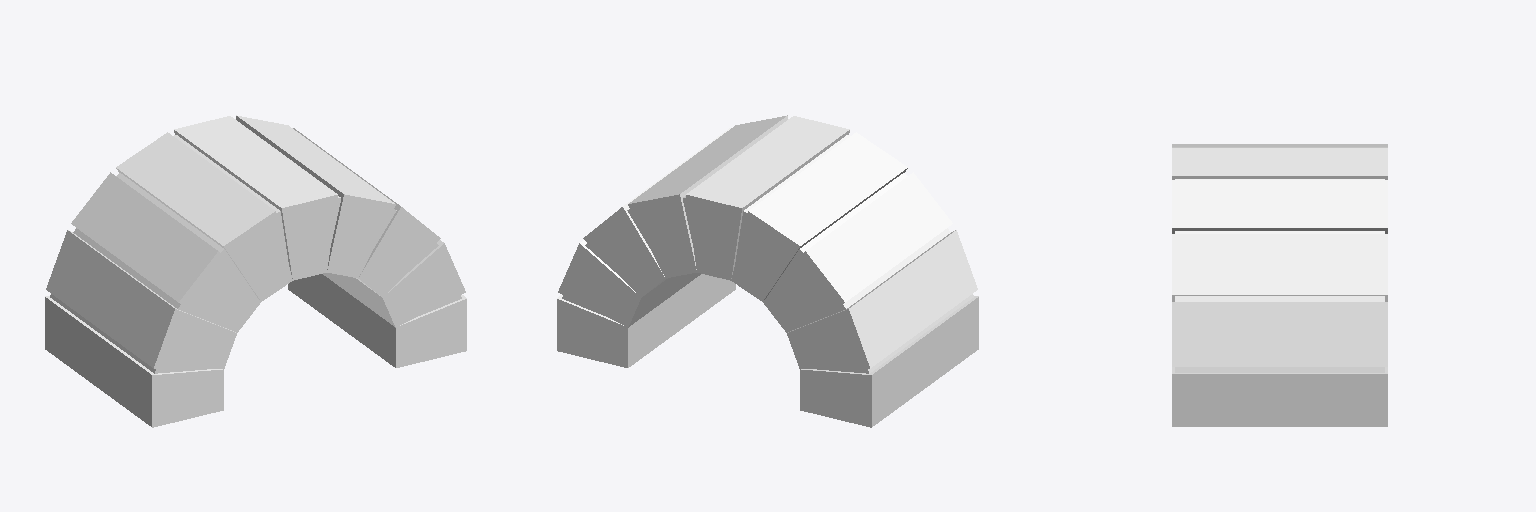
Rendered from generic_round_arch_1_thick.obj.
3 renders of one model, left to right at view 1: azimuth 30°, elevation 25°; view 2: azimuth 150°, elevation 25°; view 3: azimuth 270°, elevation 25°, orthographic.
Parts seen in each view (by area): view 1: arch, inner; view 2: arch, inner; view 3: arch, inner.
Part boxes in pixels (x1,y1,x2,y2): arch: (45, 115, 466, 427); inner: (50, 135, 461, 373); arch: (557, 115, 978, 427); inner: (562, 135, 973, 373); arch: (1172, 144, 1387, 426); inner: (1175, 179, 1384, 372).
Size of the model in its own units: 1.78 by 1.02 by 1.06.